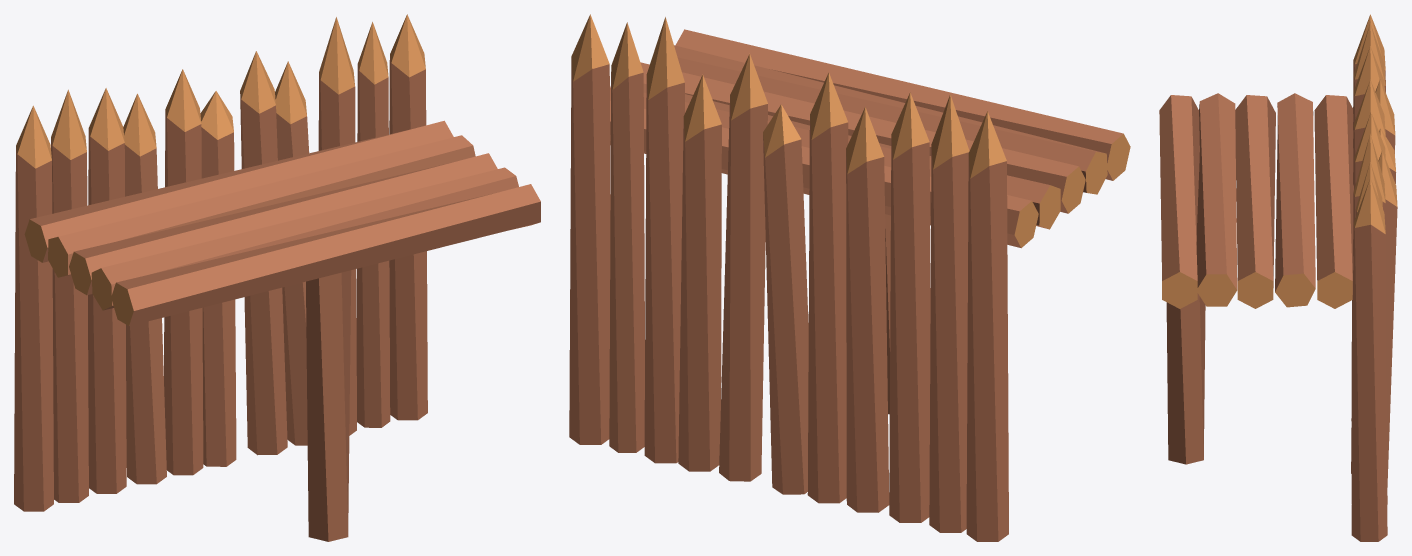
File: wall_wood_proto.glb
3 views of the same model, side by side, from view 1: azimuth 30°, elevation 25°; view 2: azimuth 150°, elevation 25°; view 3: azimuth 270°, elevation 25° (orthographic). The views are drawn at different scales.
Visible parts, largest first — view 1: Cylinder.002; view 2: Cylinder.002; view 3: Cylinder.002.
Part boxes in pixels (x1=…): Cylinder.002: x1=14, y1=14, x2=540, y2=541; Cylinder.002: x1=569, y1=14, x2=1130, y2=541; Cylinder.002: x1=1159, y1=14, x2=1397, y2=541.
Bounding box in the file's own units: 3 × 2.9 × 1.69.
1 material, 1 textured.
